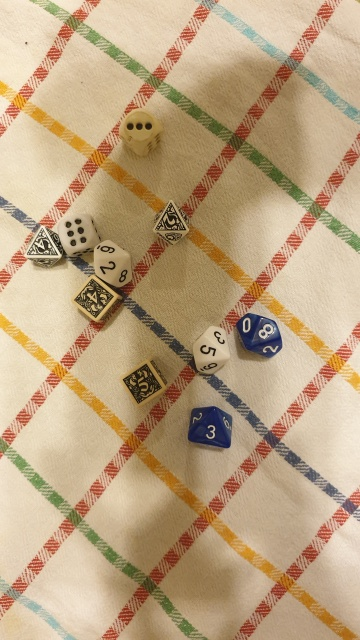d10-2: (88, 238, 138, 290)
d10-3: (185, 398, 238, 459)
d10-5: (186, 319, 233, 382)
d10-8: (233, 305, 284, 364)
d6-3: (111, 103, 165, 159)
d6-6: (53, 213, 102, 256)
d6p-4: (67, 274, 119, 325)
d6p-5: (113, 358, 173, 410)
d8p-2: (143, 197, 192, 248)
d8p-4: (19, 221, 63, 267)
